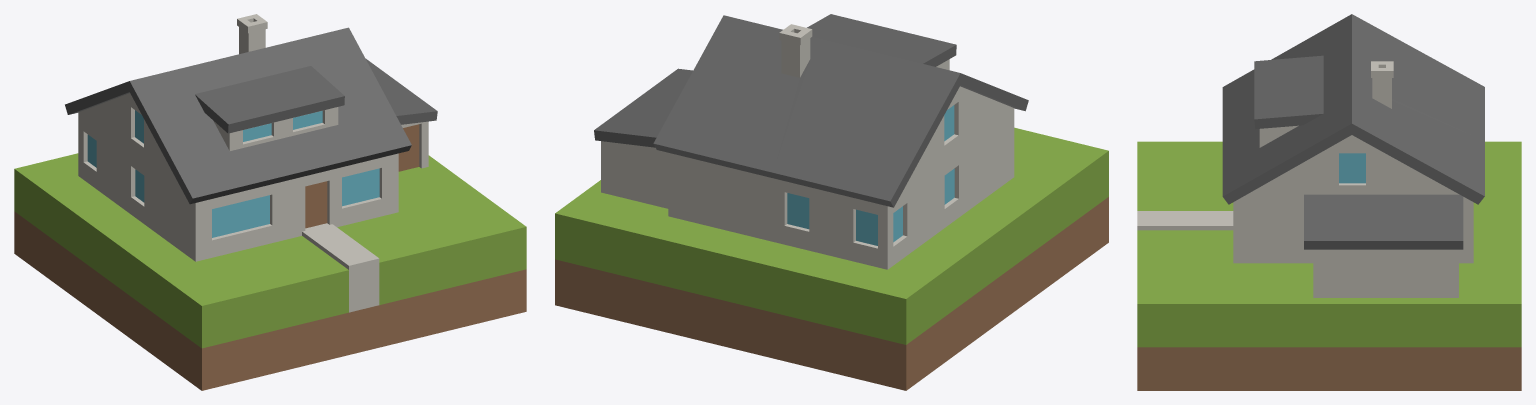
Rendered from house-small-garage.glb.
3 views of the same model, side by side, from view 1: azimuth 30°, elevation 25°; view 2: azimuth 150°, elevation 25°; view 3: azimuth 270°, elevation 25° (orthographic). The views are drawn at different scales.
Visible parts, largest first — view 1: house-small-garage_Cube.000; view 2: house-small-garage_Cube.000; view 3: house-small-garage_Cube.000.
Boxes of the visible parts, left/top/right/bottom form: house-small-garage_Cube.000: left=14, top=14, right=526, bottom=390; house-small-garage_Cube.000: left=555, top=14, right=1108, bottom=390; house-small-garage_Cube.000: left=1137, top=14, right=1521, bottom=390.
Bounding box in the file's own units: 8 × 5.69 × 8.
Materials: 1 (1 with a texture image).
